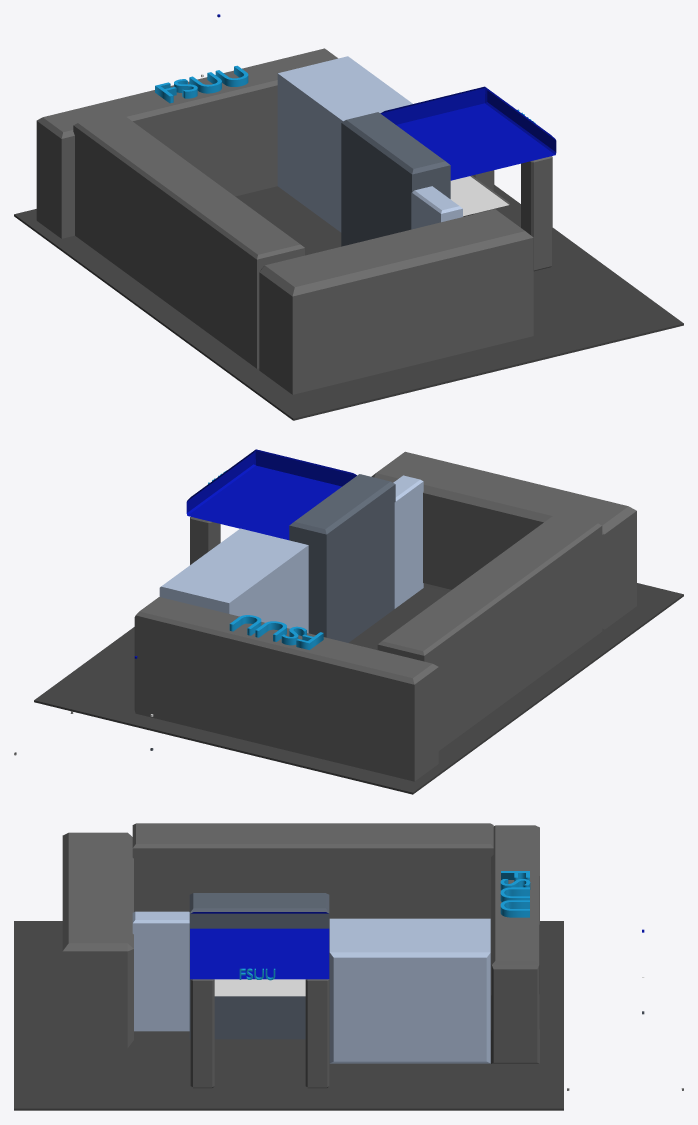
3 renders of one model, top to bottom at view 1: azimuth 30°, elevation 25°; view 2: azimuth 150°, elevation 25°; view 3: azimuth 270°, elevation 25°, orthographic. The views are drawn at different scales.
Visible parts, largest first — view 1: Cube.002, Cube, floor, Cube.001, Cube.005, Cube.004, Cube.006, Cube.008, Cube.003, Text, Cube.007; view 2: Cube.001, Cube, Cube.002, floor, Cube.004, Cube.005, Cube.006, Cube.003, Text, Cube.009; view 3: floor, Cube, Cube.005, Cube.002, Cube.001, Cube.004, Cube.006, Cube.003, Cube.008, Cube.009, Cube.007, Text.
Boxes of the visible parts, x1,y1,x2,y2 form: Cube.002: (259, 209, 533, 394); Cube: (73, 112, 304, 368); floor: (14, 185, 683, 420); Cube.001: (36, 48, 337, 238); Cube.005: (277, 56, 412, 232); Cube.004: (341, 112, 450, 246); Cube.006: (217, 14, 556, 180); Cube.008: (521, 156, 552, 271); Cube.003: (411, 186, 462, 229); Text: (155, 65, 248, 103); Cube.007: (201, 74, 509, 216); Cube.001: (134, 597, 438, 781); Cube: (377, 513, 602, 750); Cube.002: (371, 451, 636, 629); floor: (34, 583, 683, 794); Cube.004: (150, 474, 395, 750); Cube.005: (159, 528, 308, 633); Cube.006: (134, 449, 356, 658); Cube.003: (393, 475, 423, 608); Text: (229, 615, 323, 649); Cube.009: (14, 517, 220, 755); floor: (14, 921, 563, 1110); Cube: (132, 823, 493, 955); Cube.005: (329, 918, 490, 1063); Cube.002: (62, 832, 133, 1048); Cube.001: (491, 825, 539, 1063); Cube.004: (189, 893, 644, 1039); Cube.006: (190, 912, 644, 979); Cube.003: (132, 911, 189, 1031); Cube.008: (190, 979, 569, 1090); Cube.009: (305, 979, 683, 1090); Cube.007: (214, 977, 644, 996); Text: (500, 871, 530, 917).
Bounding box in the file's own units: 404 × 132 × 609.
